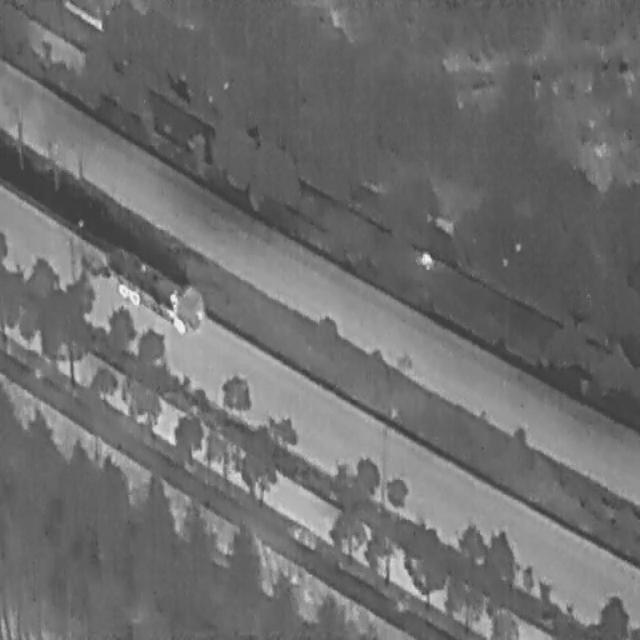Car: (76, 242, 105, 278)
OtherVehicle: (109, 244, 210, 340)
